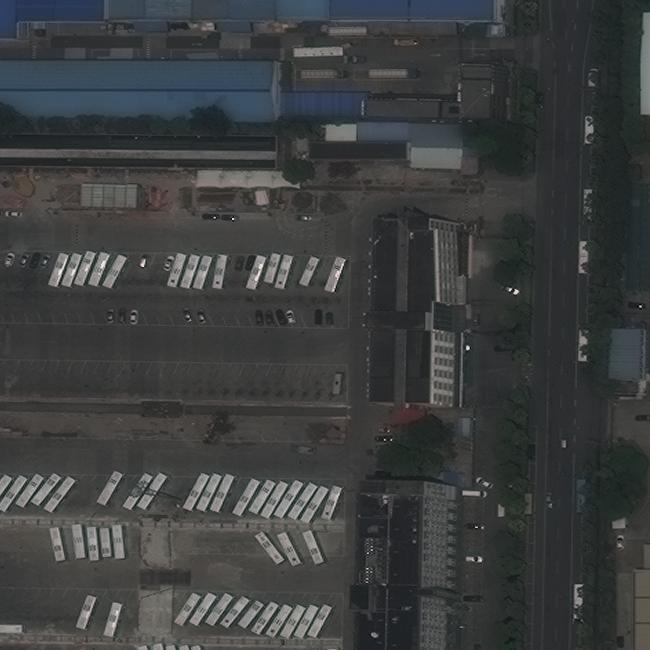parking lot: (10, 308, 332, 330), (13, 361, 338, 381)
